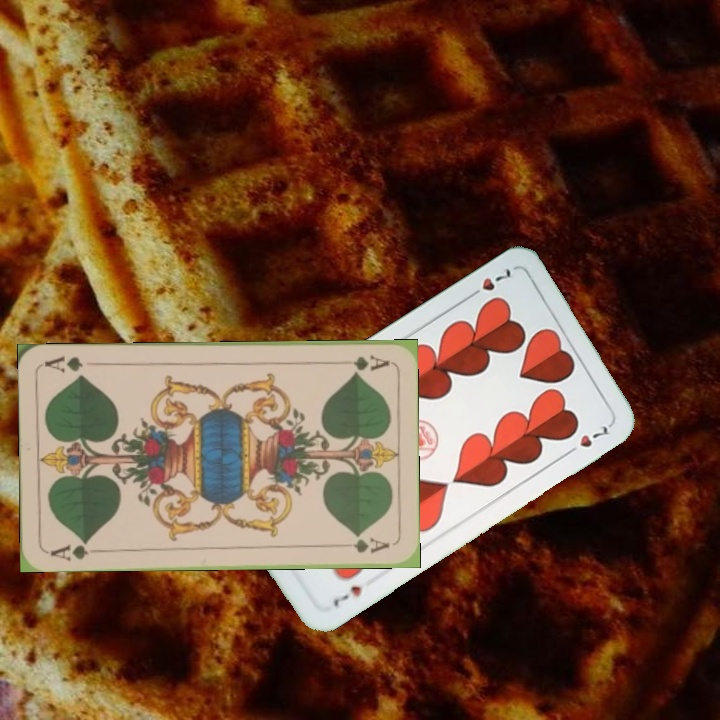GA: (47, 536, 104, 563), (332, 351, 391, 374)
H7: (463, 263, 514, 301), (329, 581, 364, 610)
